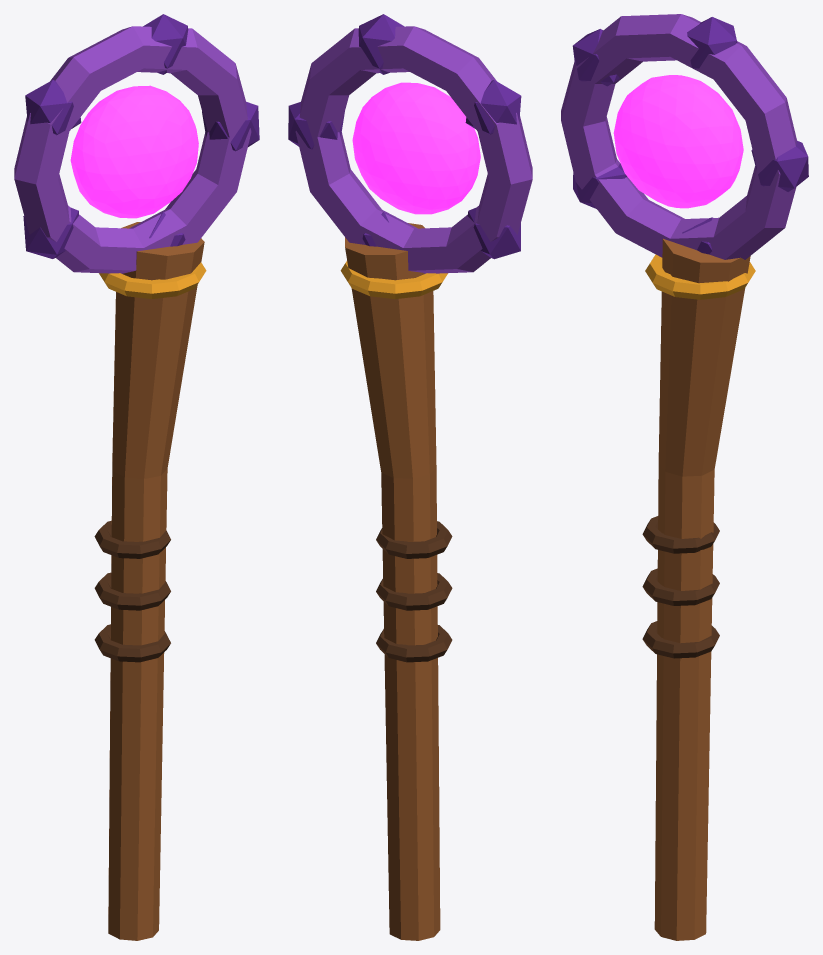
The model's file is staff.glb.
3 views of the same model, side by side, from view 1: azimuth 30°, elevation 25°; view 2: azimuth 150°, elevation 25°; view 3: azimuth 330°, elevation 25° (orthographic).
Parts seen in each view (by area): view 1: Wizard staff shaft, Purple staff head, Glowing magic crystal, Staff gold collar, Staff crystal prong.002, Staff grip bindings.001, Staff grip bindings.002, Staff grip bindings, Staff crystal prong.001, Staff crystal prong.003, Staff crystal prong; view 2: Wizard staff shaft, Purple staff head, Glowing magic crystal, Staff gold collar, Staff crystal prong.002, Staff grip bindings.001, Staff grip bindings, Staff grip bindings.002, Staff crystal prong.001, Staff crystal prong.003, Staff crystal prong; view 3: Wizard staff shaft, Purple staff head, Glowing magic crystal, Staff gold collar, Staff crystal prong, Staff crystal prong.001, Staff grip bindings, Staff grip bindings.001, Staff grip bindings.002, Staff crystal prong.002, Staff crystal prong.003.
Part boxes in pixels (bbox=[...]): Wizard staff shaft: bbox=[108, 222, 204, 940]; Purple staff head: bbox=[14, 26, 251, 273]; Glowing magic crystal: bbox=[70, 85, 198, 218]; Staff gold collar: bbox=[99, 262, 206, 298]; Staff crystal prong.002: bbox=[25, 80, 81, 135]; Staff grip bindings.001: bbox=[94, 572, 170, 610]; Staff grip bindings.002: bbox=[94, 520, 170, 558]; Staff grip bindings: bbox=[94, 624, 170, 662]; Staff crystal prong.001: bbox=[143, 14, 188, 74]; Staff crystal prong.003: bbox=[23, 207, 78, 258]; Staff crystal prong: bbox=[202, 101, 259, 151]; Wizard staff shaft: bbox=[345, 223, 440, 940]; Purple staff head: bbox=[295, 26, 532, 273]; Glowing magic crystal: bbox=[352, 82, 480, 214]; Staff gold collar: bbox=[340, 261, 447, 299]; Staff crystal prong.002: bbox=[465, 80, 521, 134]; Staff grip bindings.001: bbox=[376, 573, 452, 610]; Staff grip bindings: bbox=[376, 625, 452, 662]; Staff grip bindings.002: bbox=[376, 521, 452, 558]; Staff crystal prong.001: bbox=[358, 14, 404, 74]; Staff crystal prong.003: bbox=[467, 208, 520, 259]; Staff crystal prong: bbox=[288, 102, 344, 149]; Wizard staff shaft: bbox=[654, 238, 750, 940]; Purple staff head: bbox=[561, 14, 796, 259]; Glowing magic crystal: bbox=[613, 75, 743, 208]; Staff gold collar: bbox=[645, 254, 755, 299]; Staff crystal prong: bbox=[751, 140, 808, 191]; Staff crystal prong.001: bbox=[687, 17, 737, 68]; Staff grip bindings: bbox=[642, 621, 719, 658]; Staff grip bindings.001: bbox=[642, 568, 719, 605]; Staff grip bindings.002: bbox=[642, 516, 719, 553]; Staff crystal prong.002: bbox=[572, 29, 619, 86]; Staff crystal prong.003: bbox=[573, 163, 626, 208].
Bounding box in the file's own units: 0.5925 × 2.11 × 0.23.
